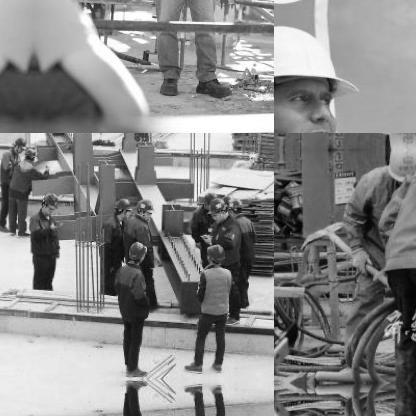Helmet: (274, 12, 366, 132), (389, 148, 415, 177), (134, 196, 154, 224), (202, 243, 224, 266), (40, 188, 58, 216), (207, 197, 227, 221), (128, 238, 144, 266), (110, 195, 128, 219), (389, 133, 415, 149), (11, 133, 26, 155), (228, 197, 240, 217), (21, 145, 35, 162)
